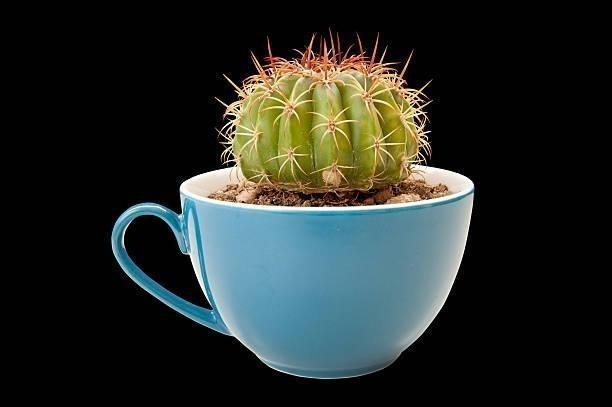cup-handle: (109, 160, 476, 382)
